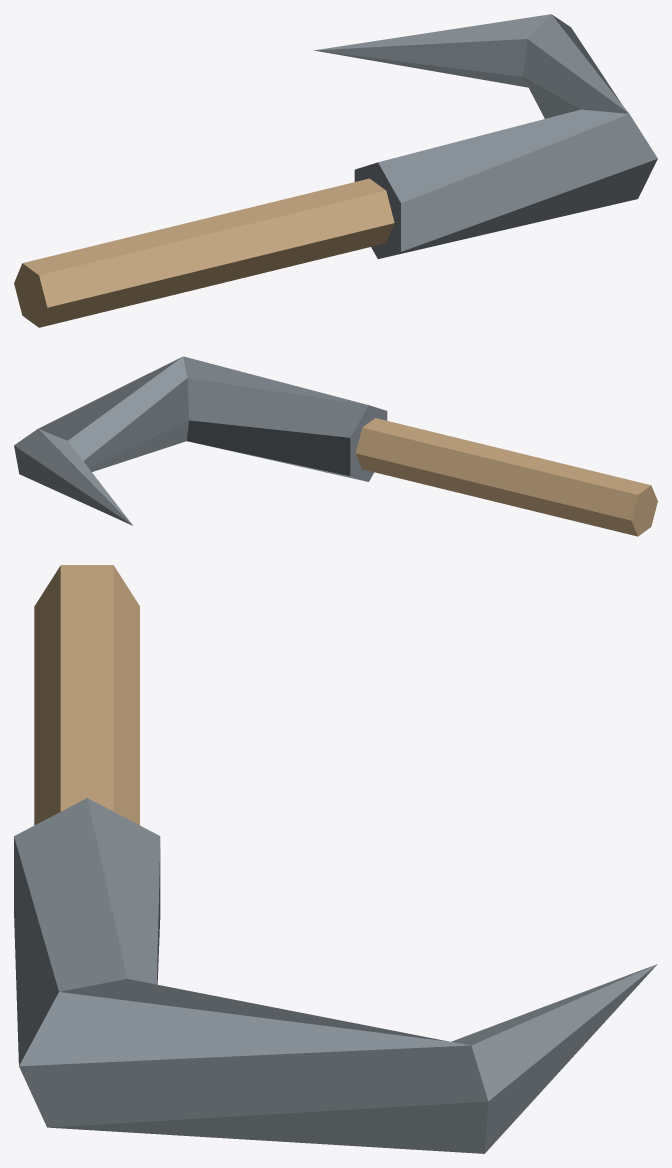
The model's file is item_106_iron_sickle_s.glb.
3 renders of one model, top to bottom at view 1: azimuth 30°, elevation 25°; view 2: azimuth 150°, elevation 25°; view 3: azimuth 270°, elevation 25°, orthographic. The views are drawn at different scales.
Parts seen in each view (by area): view 1: item_106_iron_sickle_s; view 2: item_106_iron_sickle_s; view 3: item_106_iron_sickle_s.
Part boxes in pixels (x1=…): item_106_iron_sickle_s: x1=14, y1=14, x2=657, y2=327; item_106_iron_sickle_s: x1=14, y1=356, x2=657, y2=536; item_106_iron_sickle_s: x1=14, y1=565, x2=657, y2=1153.
Bounding box in the file's own units: 0.5764 × 0.08 × 0.3046.
